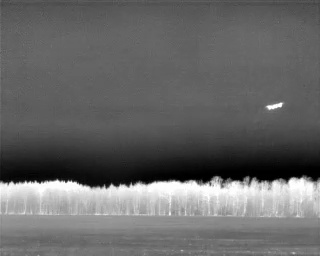DRONE: (262, 97, 287, 115)
